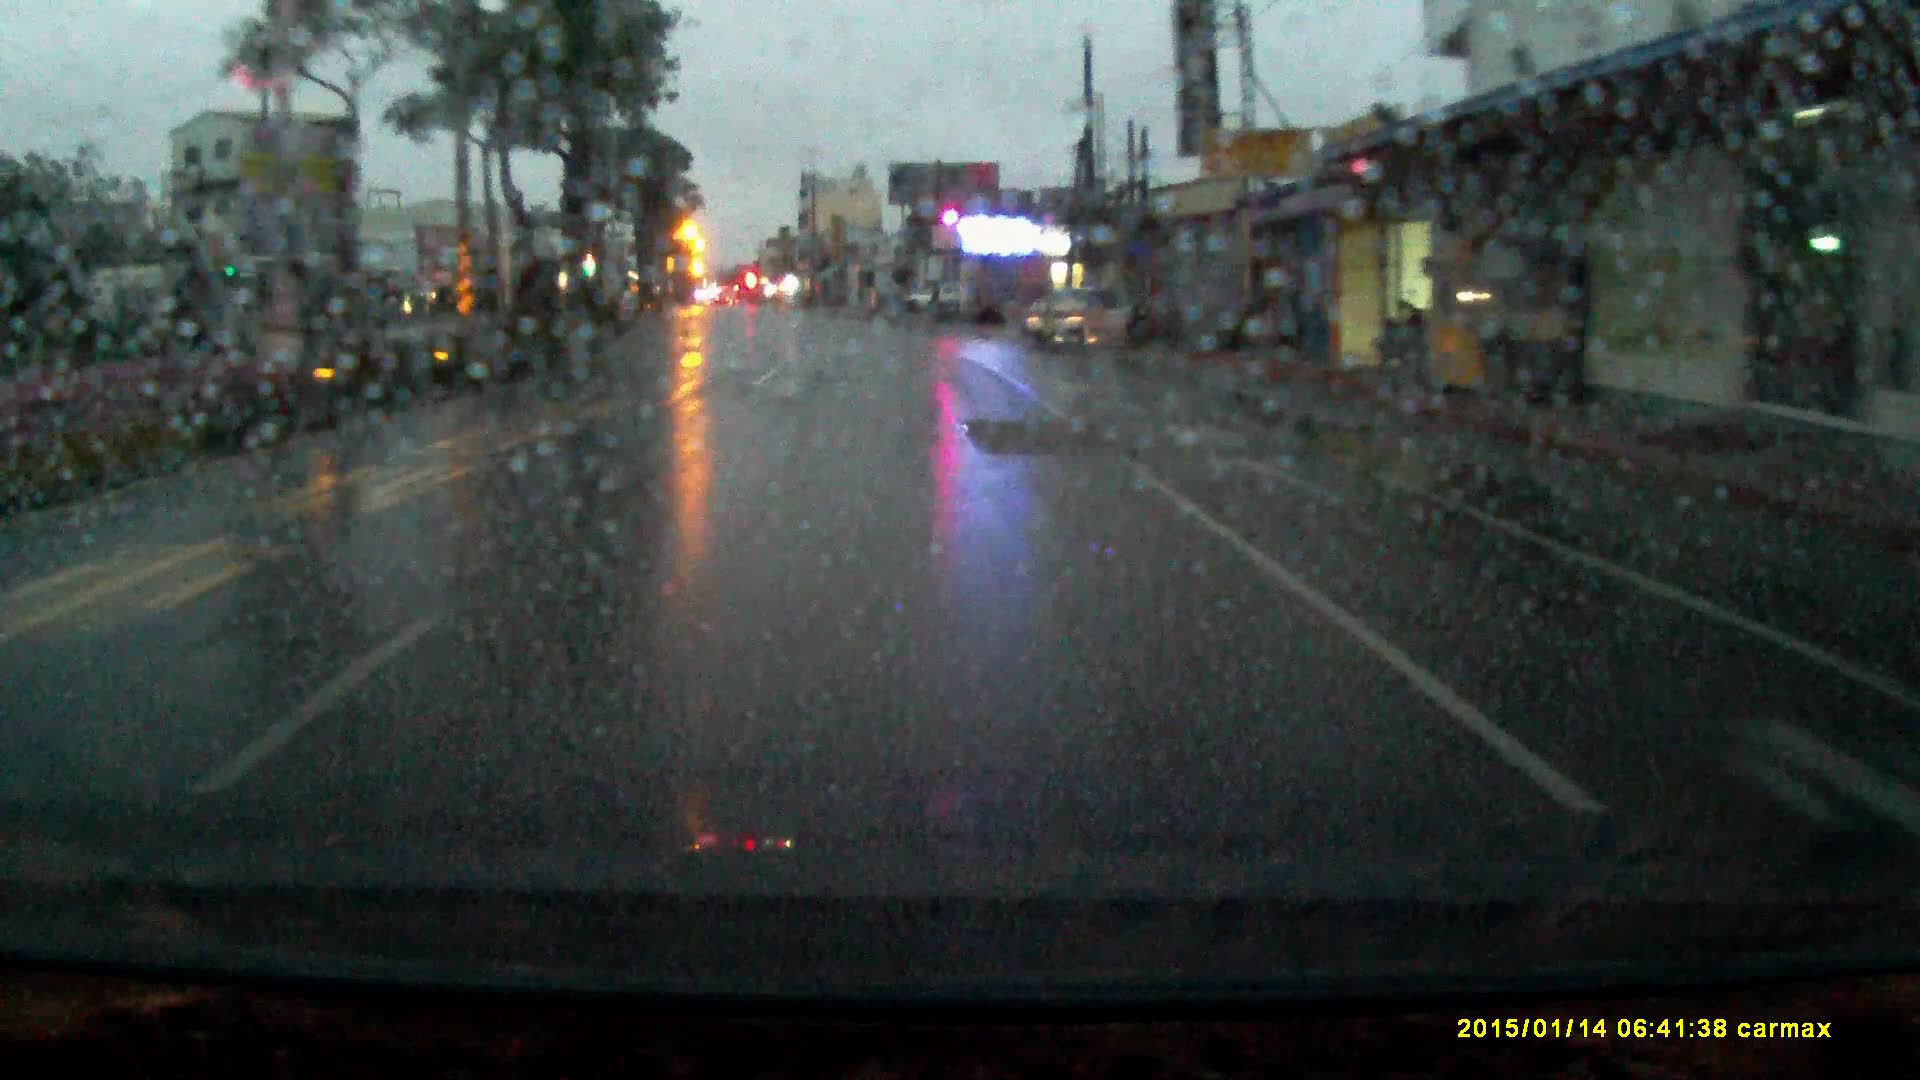vehicle: (1023, 282, 1135, 357), (905, 281, 961, 313)
